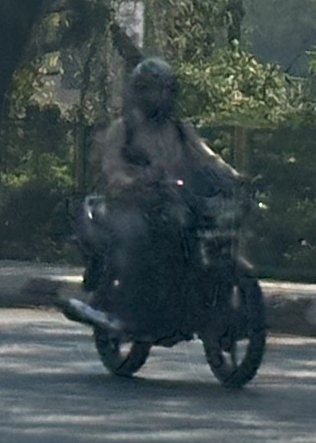BikeWithRider: (48, 50, 276, 394)
Helmet: (122, 54, 184, 123)
